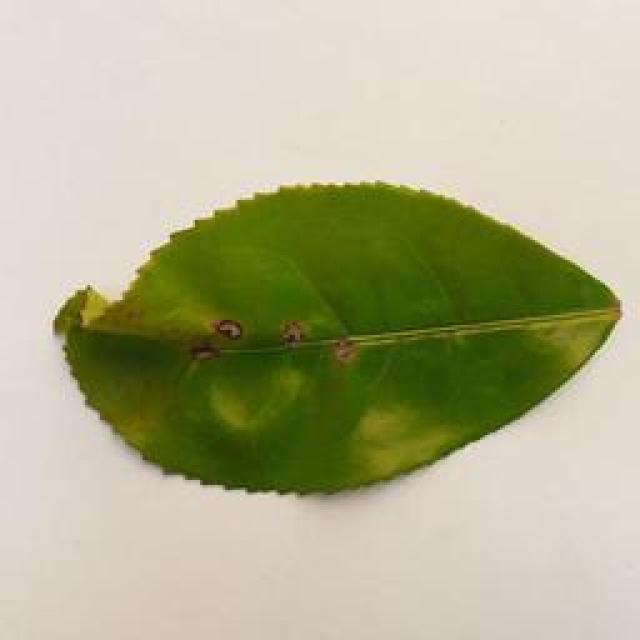Helopeltis: (49, 160, 636, 502)
